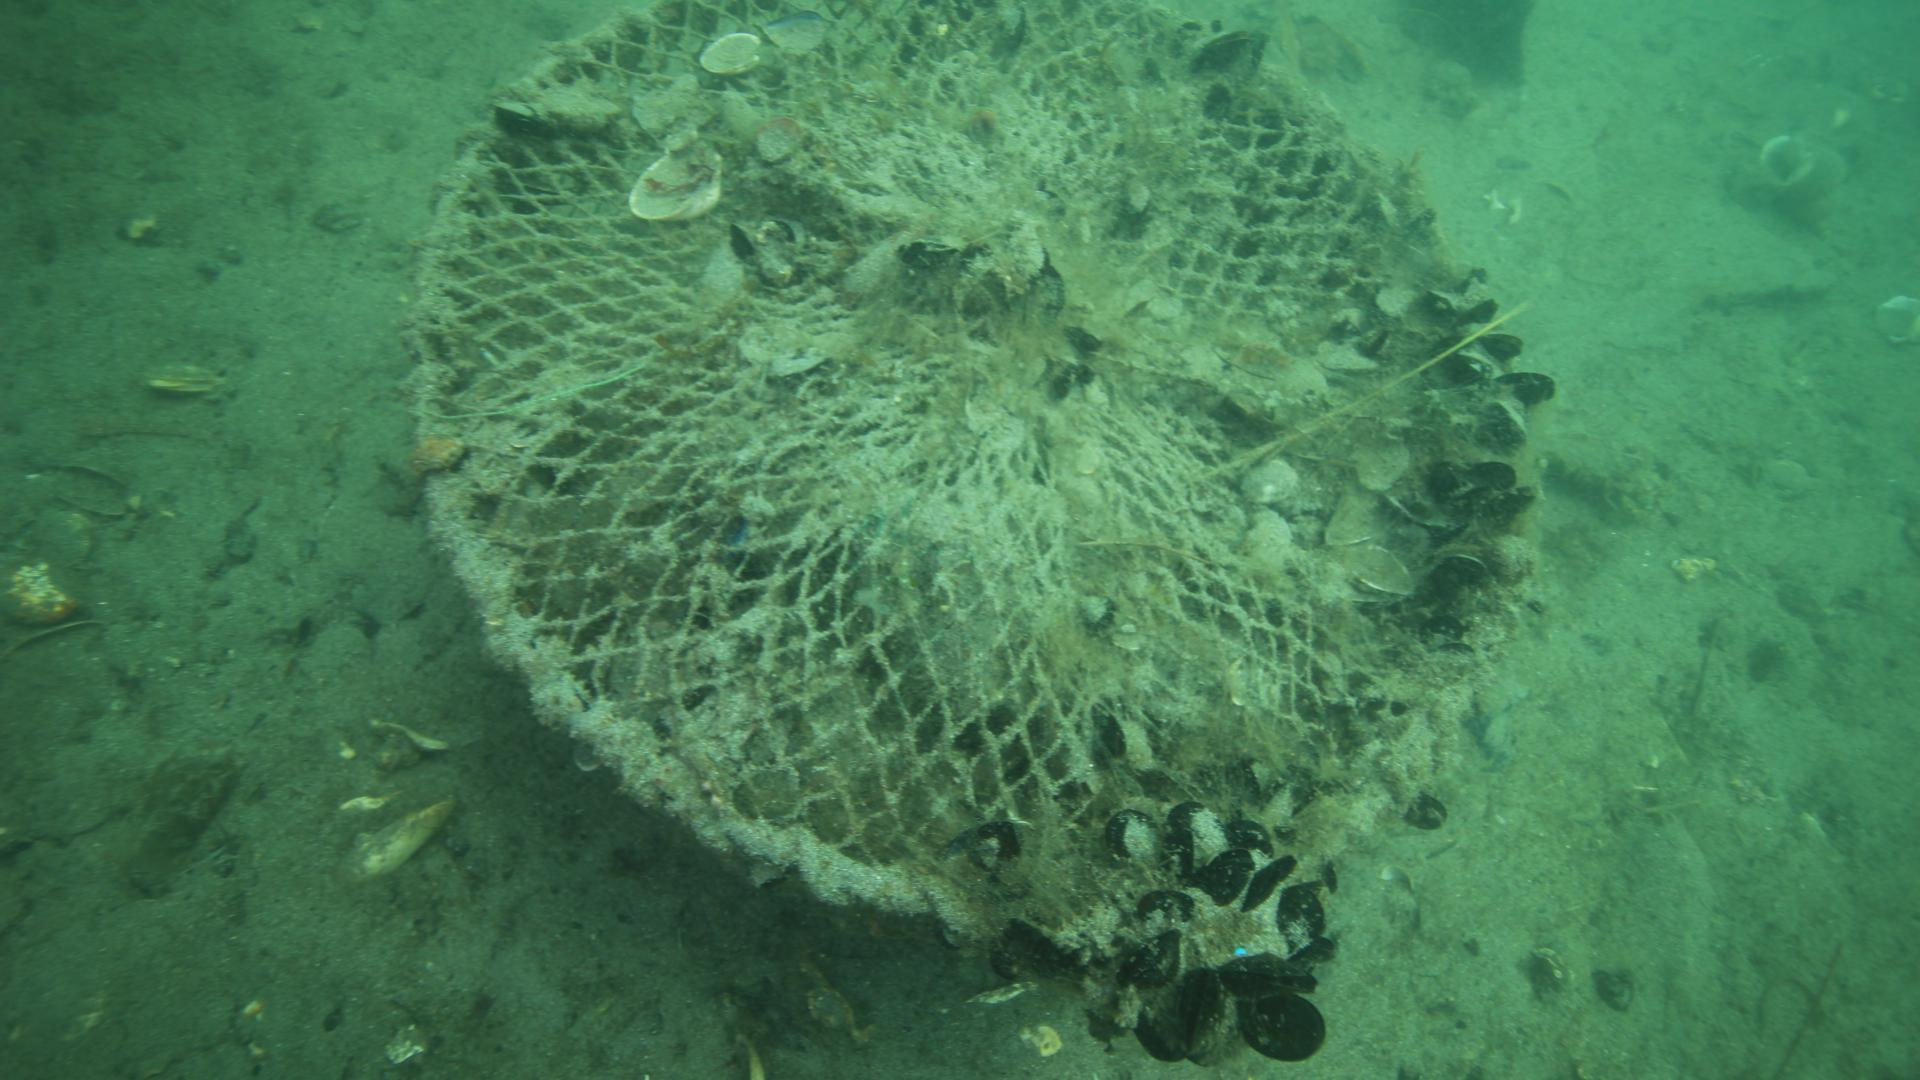circular fish trap: (407, 0, 1527, 965)
